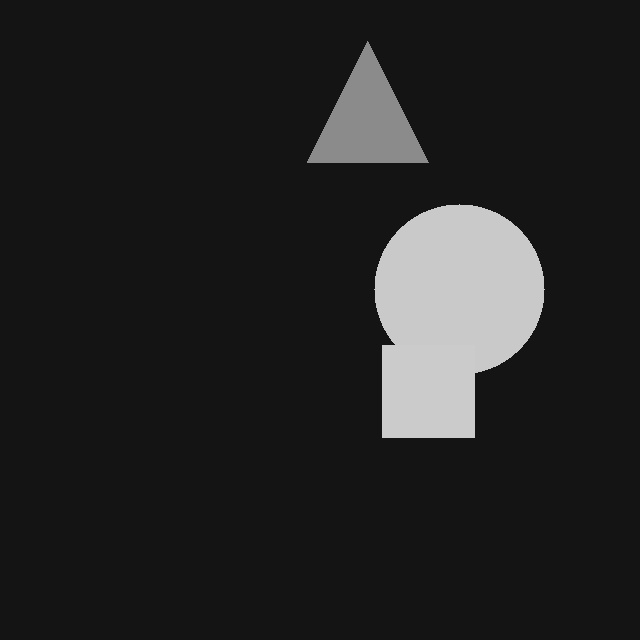circle: (374, 204, 544, 374)
square: (382, 345, 474, 437)
triangle: (307, 41, 428, 162)
